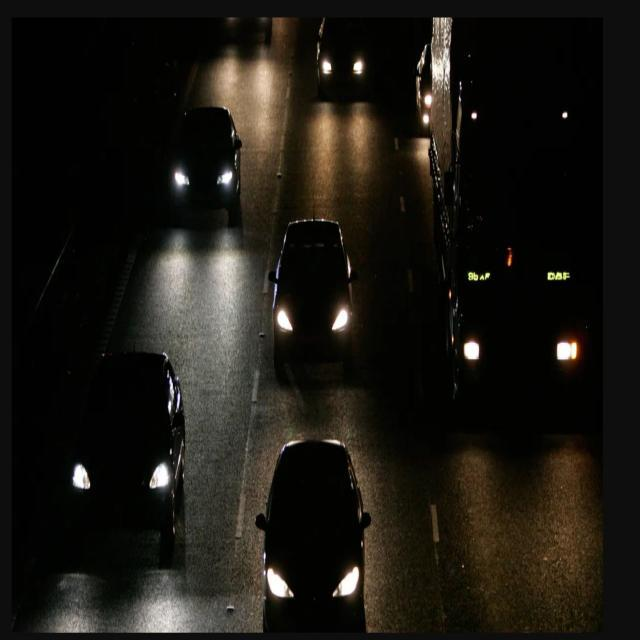headlights: (451, 326, 595, 389), (58, 446, 188, 509), (253, 559, 376, 624), (261, 296, 366, 344), (164, 164, 246, 200), (313, 52, 378, 86)
